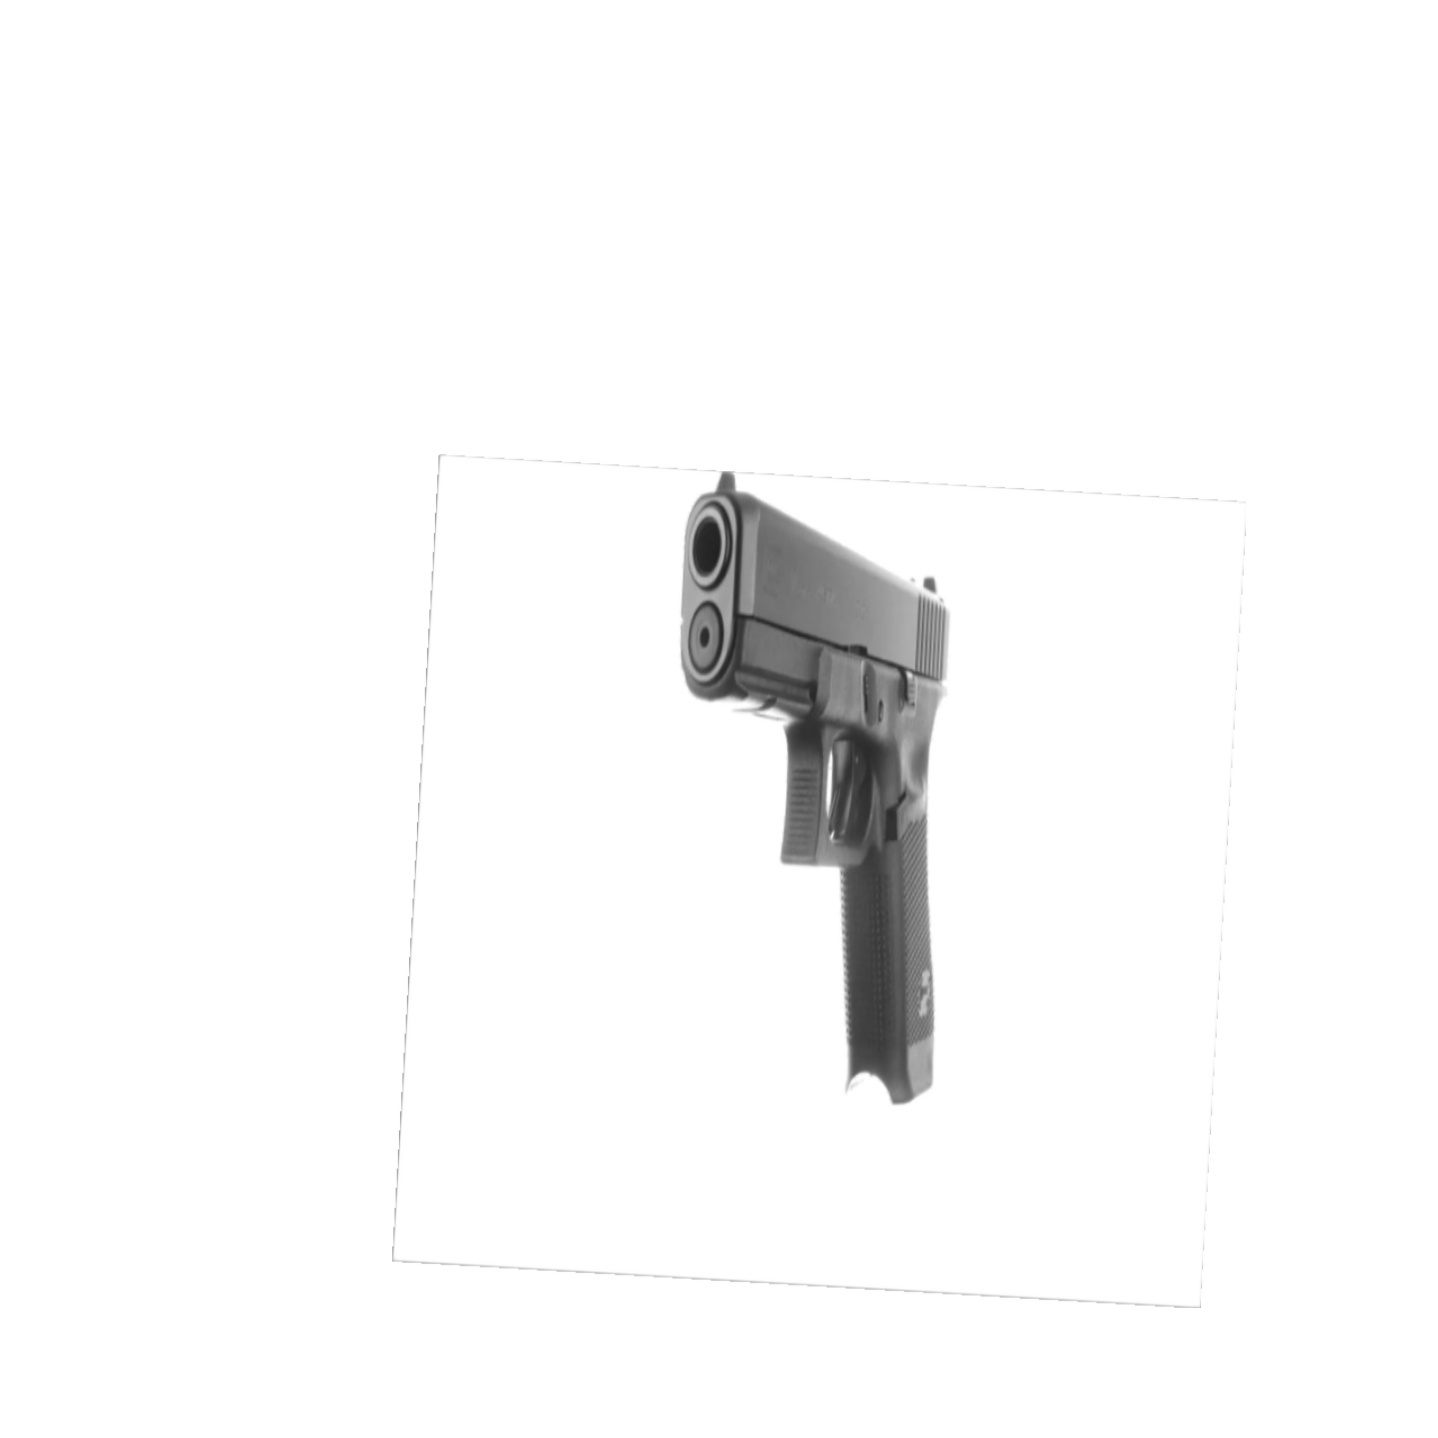gun: (633, 471, 972, 1110)
